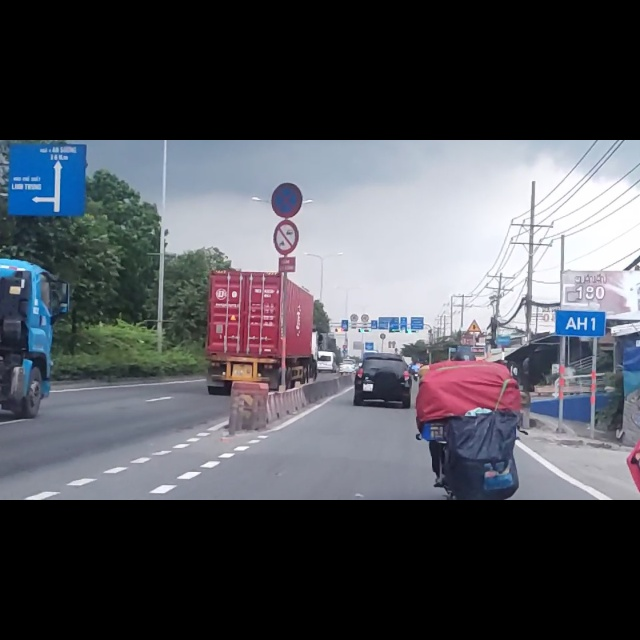bien_chi_dan: (270, 75, 303, 137), (272, 141, 300, 203)
